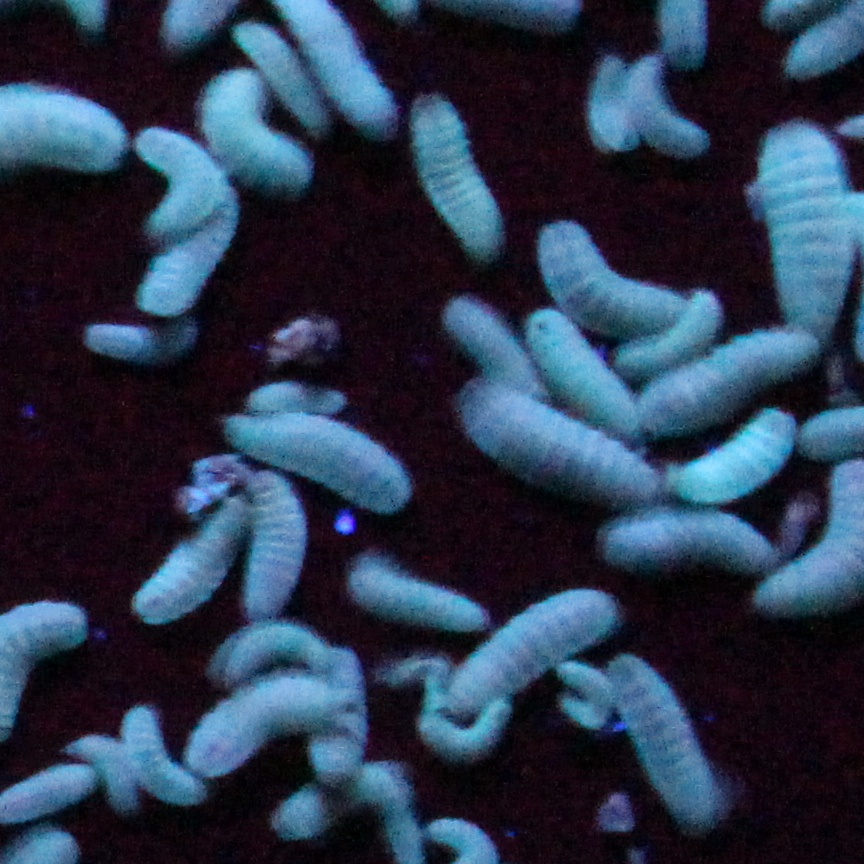larve: (253, 411, 416, 509), (473, 390, 639, 485), (624, 657, 726, 809), (460, 599, 609, 701), (664, 327, 810, 425), (768, 135, 832, 327), (536, 309, 629, 427), (538, 237, 668, 320), (213, 85, 313, 183), (146, 509, 231, 621), (197, 689, 343, 753), (422, 102, 487, 241), (375, 560, 487, 640), (243, 27, 318, 125), (690, 416, 778, 497), (631, 292, 717, 372), (620, 511, 759, 558), (165, 201, 231, 296), (148, 135, 216, 226), (251, 494, 299, 616), (453, 300, 527, 378), (226, 618, 324, 674), (290, 755, 348, 835), (82, 321, 199, 360), (141, 721, 202, 794), (582, 67, 634, 151), (641, 69, 697, 146), (429, 704, 516, 750), (90, 745, 148, 811), (255, 382, 358, 414), (575, 667, 607, 733)
